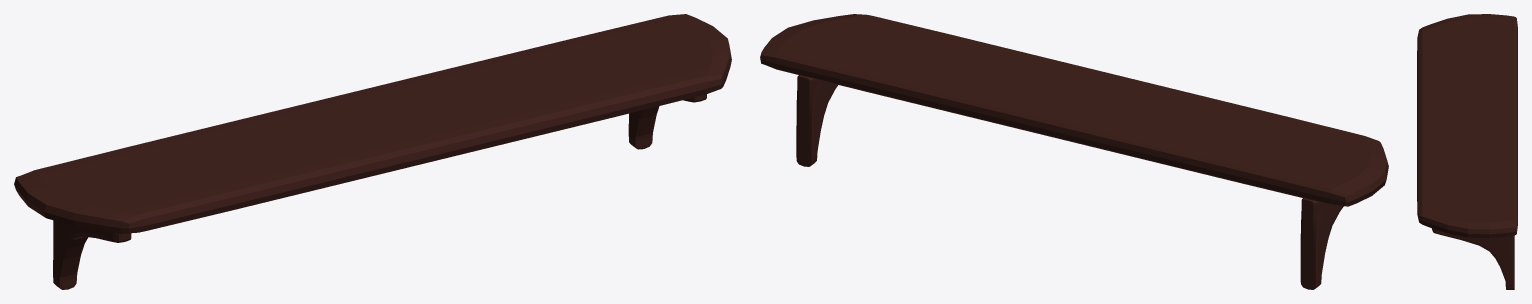
The model's file is estante.fbx.
The picture shows the model from 3 angles, left to right: view 1: azimuth 30°, elevation 25°; view 2: azimuth 150°, elevation 25°; view 3: azimuth 270°, elevation 25°; orthographic projection. The views are drawn at different scales.
Visible parts, largest first — view 1: estante; view 2: estante; view 3: estante.
Part boxes in pixels (left/top/right/bottom): estante: left=14, top=14, right=731, bottom=289; estante: left=760, top=14, right=1388, bottom=289; estante: left=1417, top=14, right=1517, bottom=289.
Bounding box in the file's own units: 1010 × 172 × 199.
